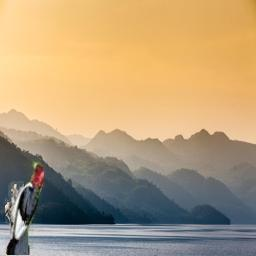Woodpecker: (5, 159, 45, 255)
